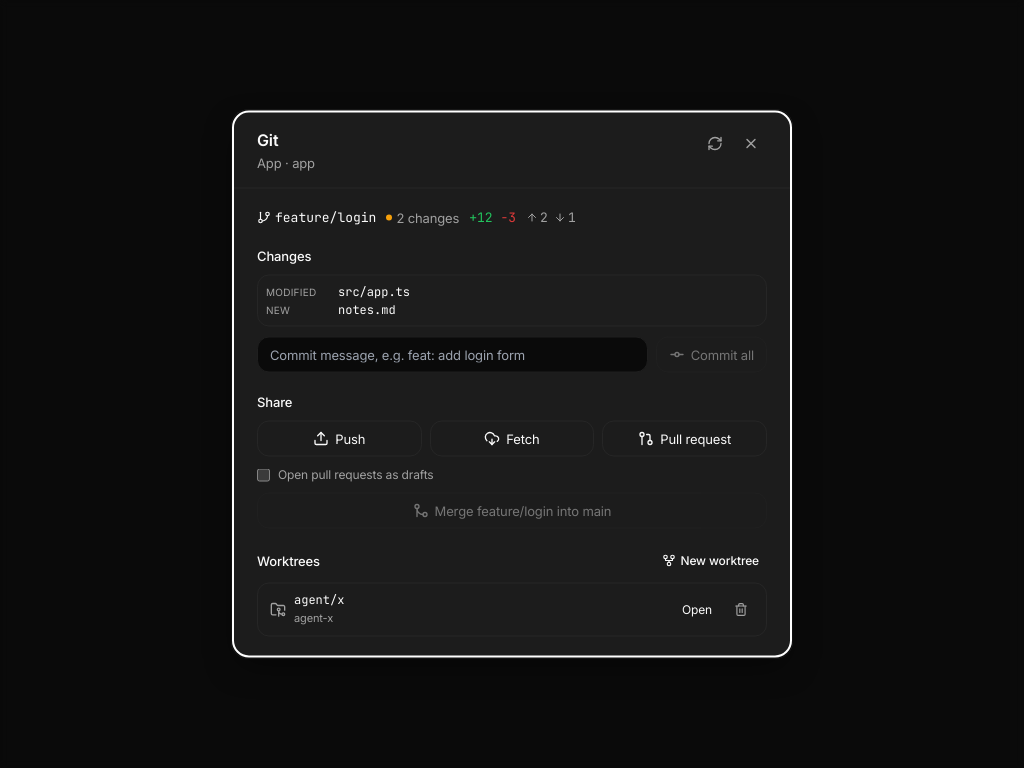
GitPanelDialog › commits everything with the typed message
This screenshot has width=1024, height=768.
Step 1. Type "feat: login" into the field labelled "Commit message" → x=452, y=354, box [257,336,648,372]
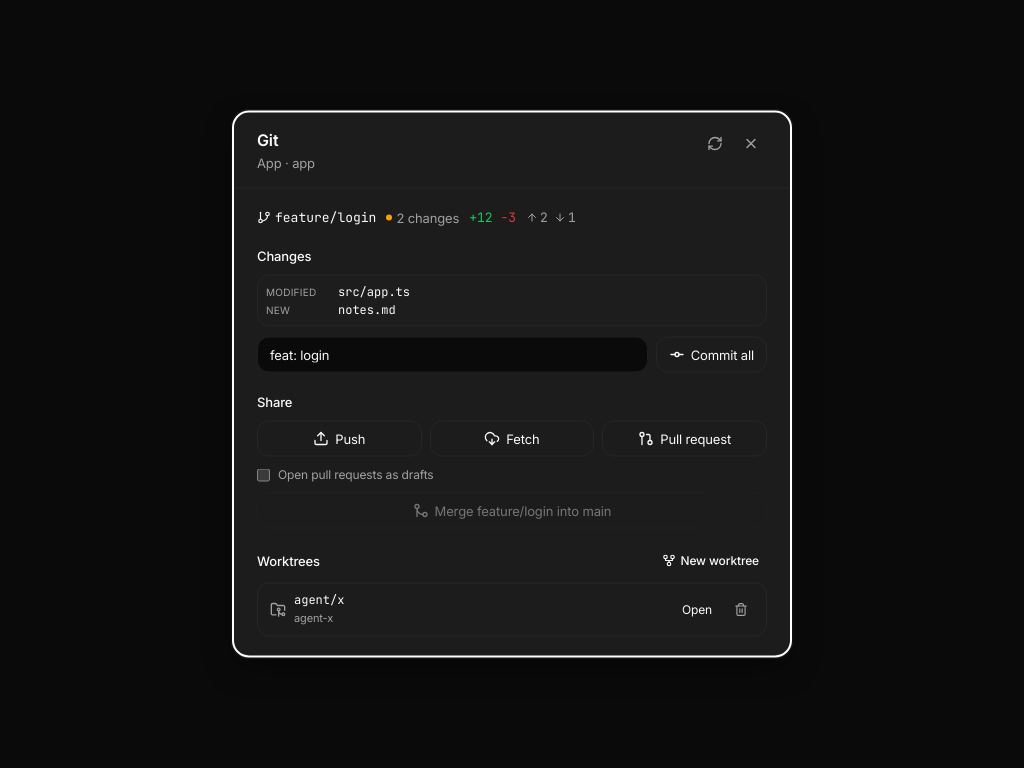
Step 2. Click the button "Commit all" → x=711, y=354, box [656,336,767,372]
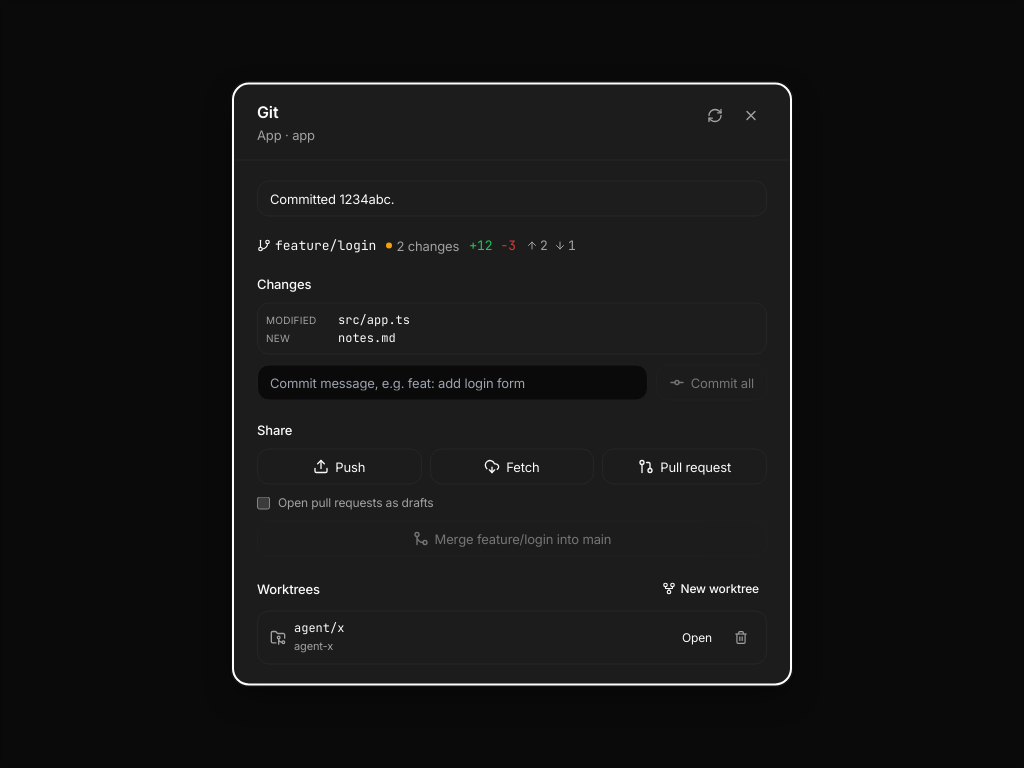
Result: the text "Committed 1234abc." is shown at [257,180,767,216]
